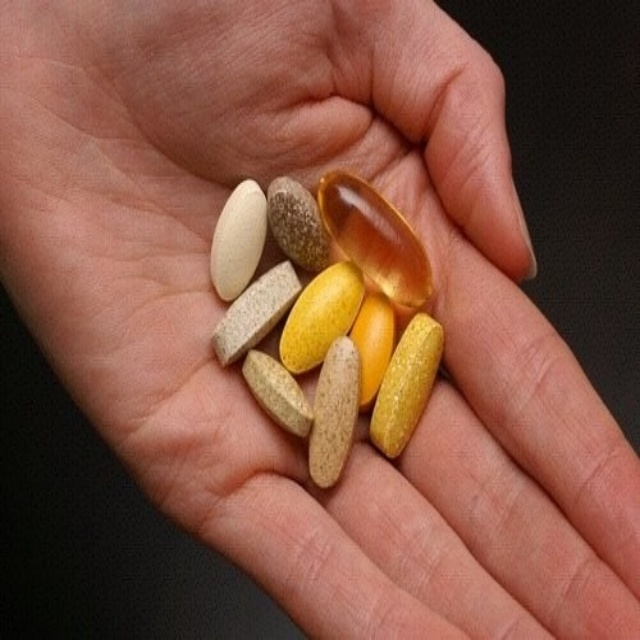pill: (248, 86, 342, 161), (289, 161, 343, 237), (217, 136, 286, 195), (166, 135, 234, 188), (163, 92, 209, 158), (242, 173, 278, 256), (208, 91, 264, 140), (191, 180, 243, 230), (267, 153, 308, 214)
